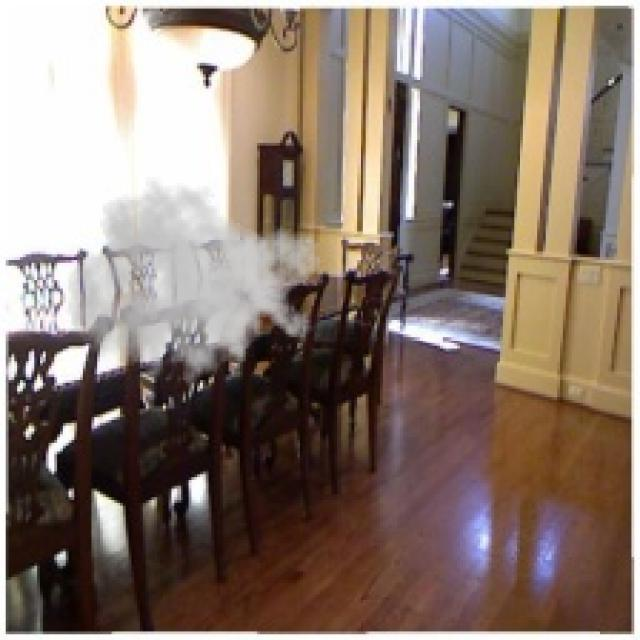Smoke: (66, 171, 323, 400)
